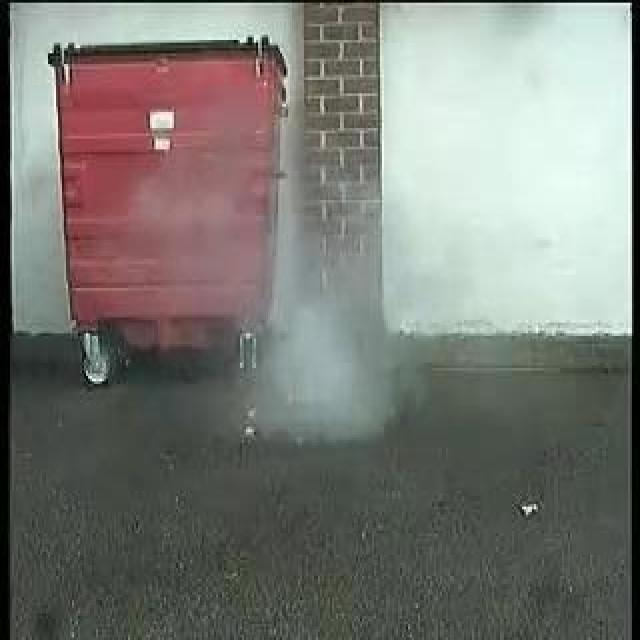Smoke: (272, 228, 414, 425)
